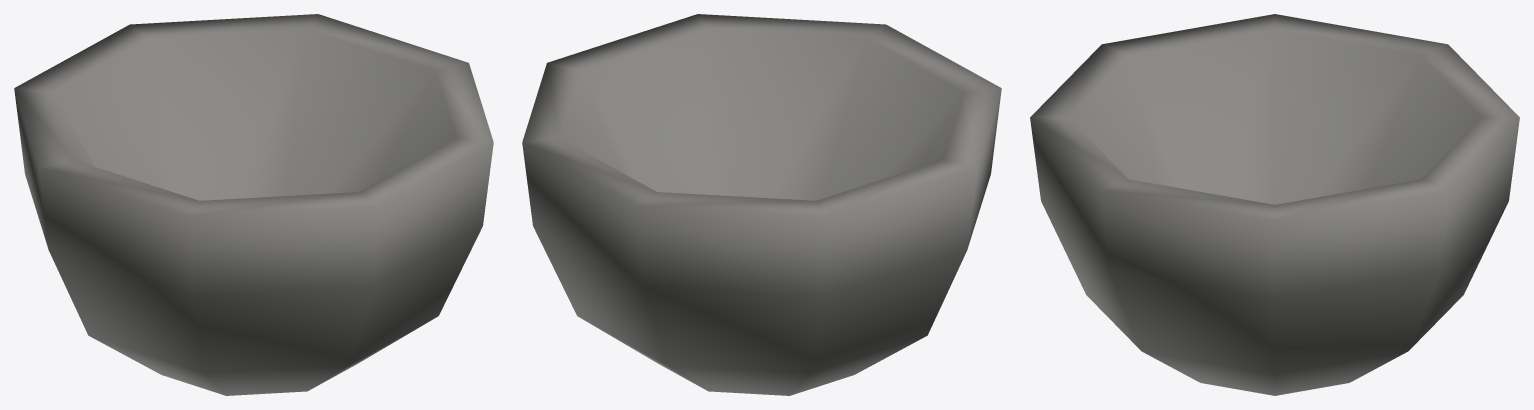
File: rpgpp_ag_mortar_01a.fbx
3 renders of one model, left to right at view 1: azimuth 30°, elevation 25°; view 2: azimuth 150°, elevation 25°; view 3: azimuth 270°, elevation 25°, orthographic.
Parts seen in each view (by area): view 1: rpgpp_ag_mortar_01a; view 2: rpgpp_ag_mortar_01a; view 3: rpgpp_ag_mortar_01a.
Boxes of the visible parts, x1,y1,x2,y2 form: rpgpp_ag_mortar_01a: [14, 14, 493, 395]; rpgpp_ag_mortar_01a: [522, 14, 1001, 395]; rpgpp_ag_mortar_01a: [1030, 14, 1519, 395].
Bounding box in the file's own units: 0.2871 × 0.1512 × 0.2871.
